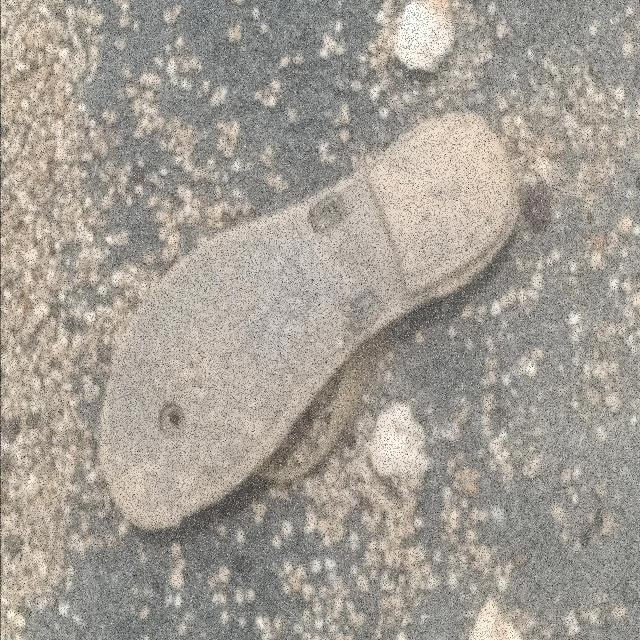rubber_waste: (98, 112, 520, 535)
